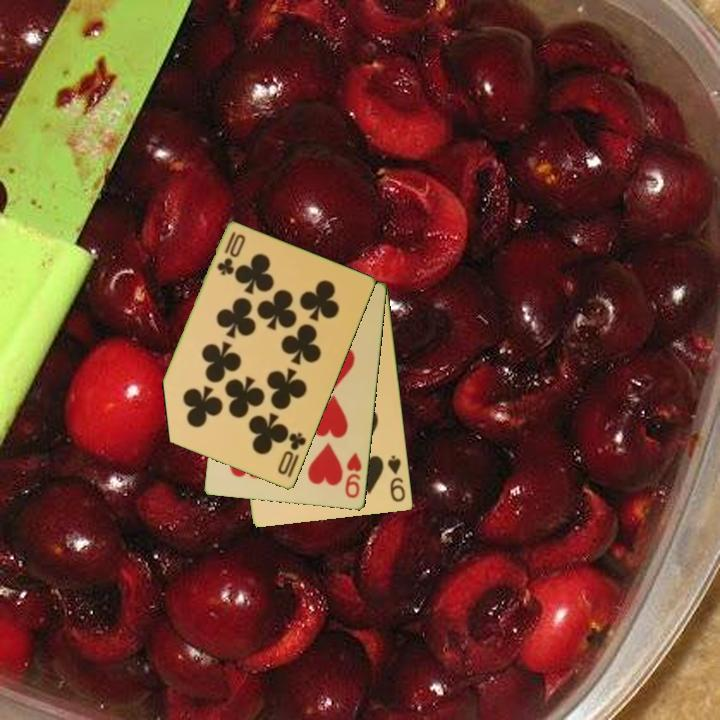10c: (274, 429, 309, 478), (213, 228, 239, 279)
9h: (342, 449, 365, 501)
9s: (384, 452, 408, 505)
